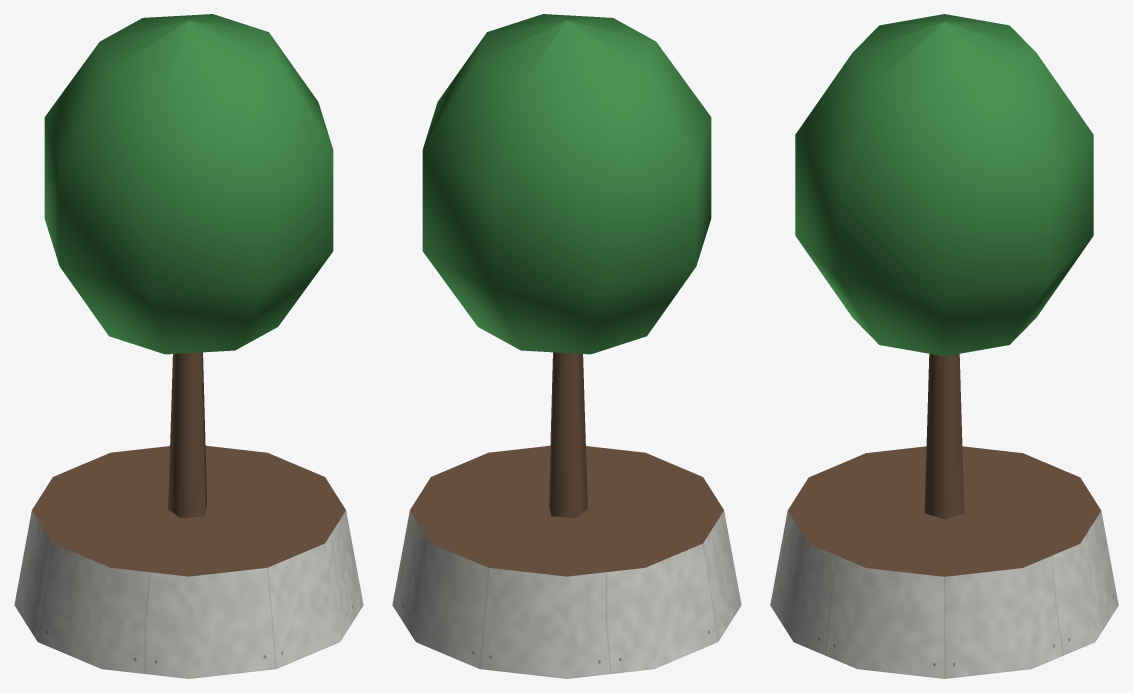
The model's file is prop_planter_tree.glb.
3 renders of one model, left to right at view 1: azimuth 30°, elevation 25°; view 2: azimuth 150°, elevation 25°; view 3: azimuth 270°, elevation 25°, orthographic.
Visible parts, largest first — view 1: prop_planter_tree_LOD0; view 2: prop_planter_tree_LOD0; view 3: prop_planter_tree_LOD0.
Part boxes in pixels (bbox=[...]): prop_planter_tree_LOD0: bbox=[14, 14, 363, 678]; prop_planter_tree_LOD0: bbox=[392, 14, 741, 678]; prop_planter_tree_LOD0: bbox=[770, 14, 1118, 678].
Size of what is drawn, in the model's own units: 2 by 3.69 by 2.
2 materials, 2 textured.
